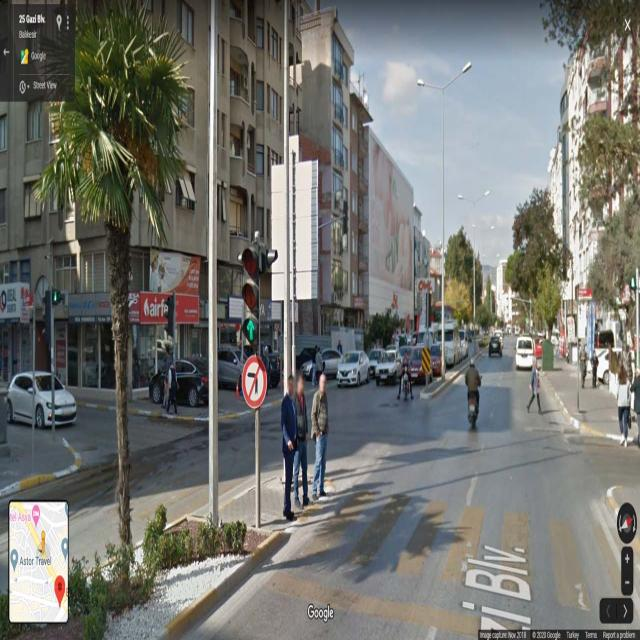soladonulmez: (242, 357, 268, 408)
